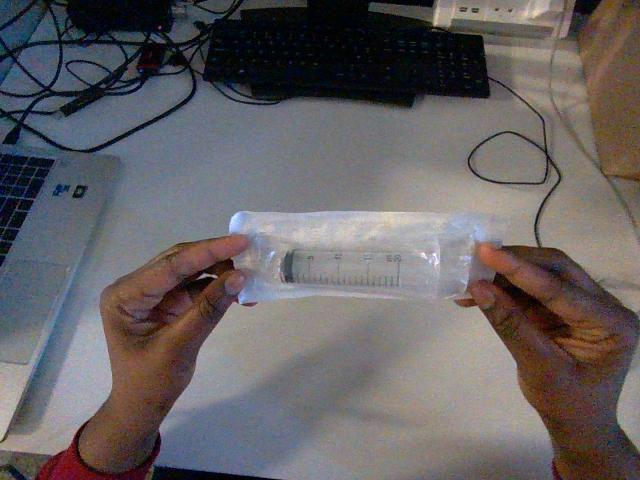syringe: (230, 211, 505, 303)
